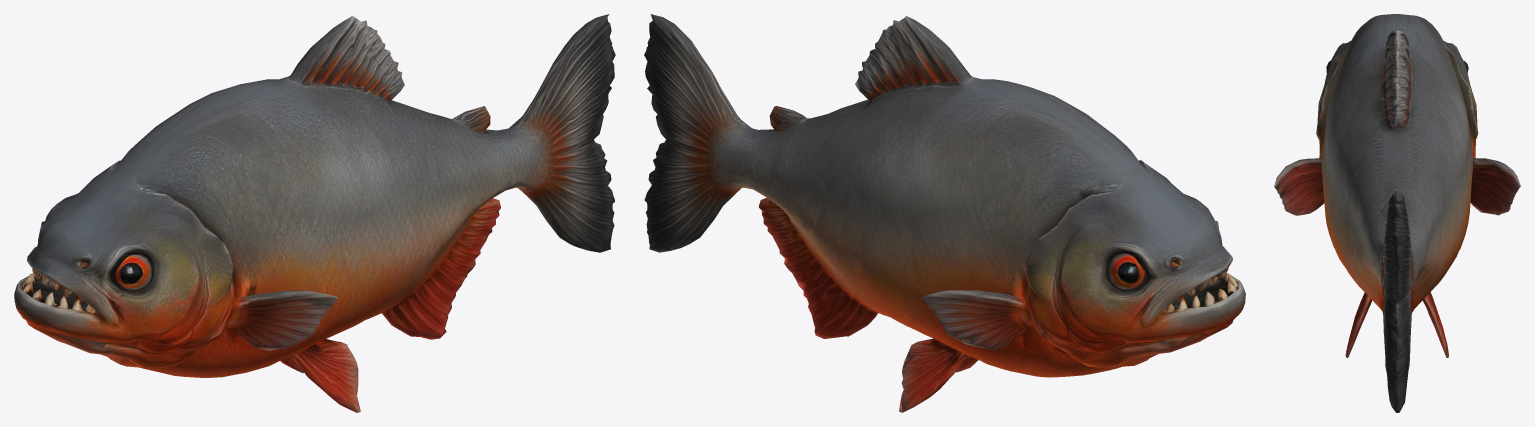
File: fish-piranya.glb
3 renders of one model, left to right at view 1: azimuth 30°, elevation 25°; view 2: azimuth 150°, elevation 25°; view 3: azimuth 270°, elevation 25°, orthographic. The views are drawn at different scales.
Visible parts, largest first — view 1: tripo_node_94b8248e-0878-4072-bdd9-977b8628edbd; view 2: tripo_node_94b8248e-0878-4072-bdd9-977b8628edbd; view 3: tripo_node_94b8248e-0878-4072-bdd9-977b8628edbd.
Part boxes in pixels (x1=…): tripo_node_94b8248e-0878-4072-bdd9-977b8628edbd: x1=14, y1=14, x2=615, y2=412; tripo_node_94b8248e-0878-4072-bdd9-977b8628edbd: x1=644, y1=14, x2=1245, y2=412; tripo_node_94b8248e-0878-4072-bdd9-977b8628edbd: x1=1274, y1=14, x2=1520, y2=412.
Size of the model in its own units: 0.9994 by 0.5969 by 0.3945.
Materials: 1 (1 with a texture image).
